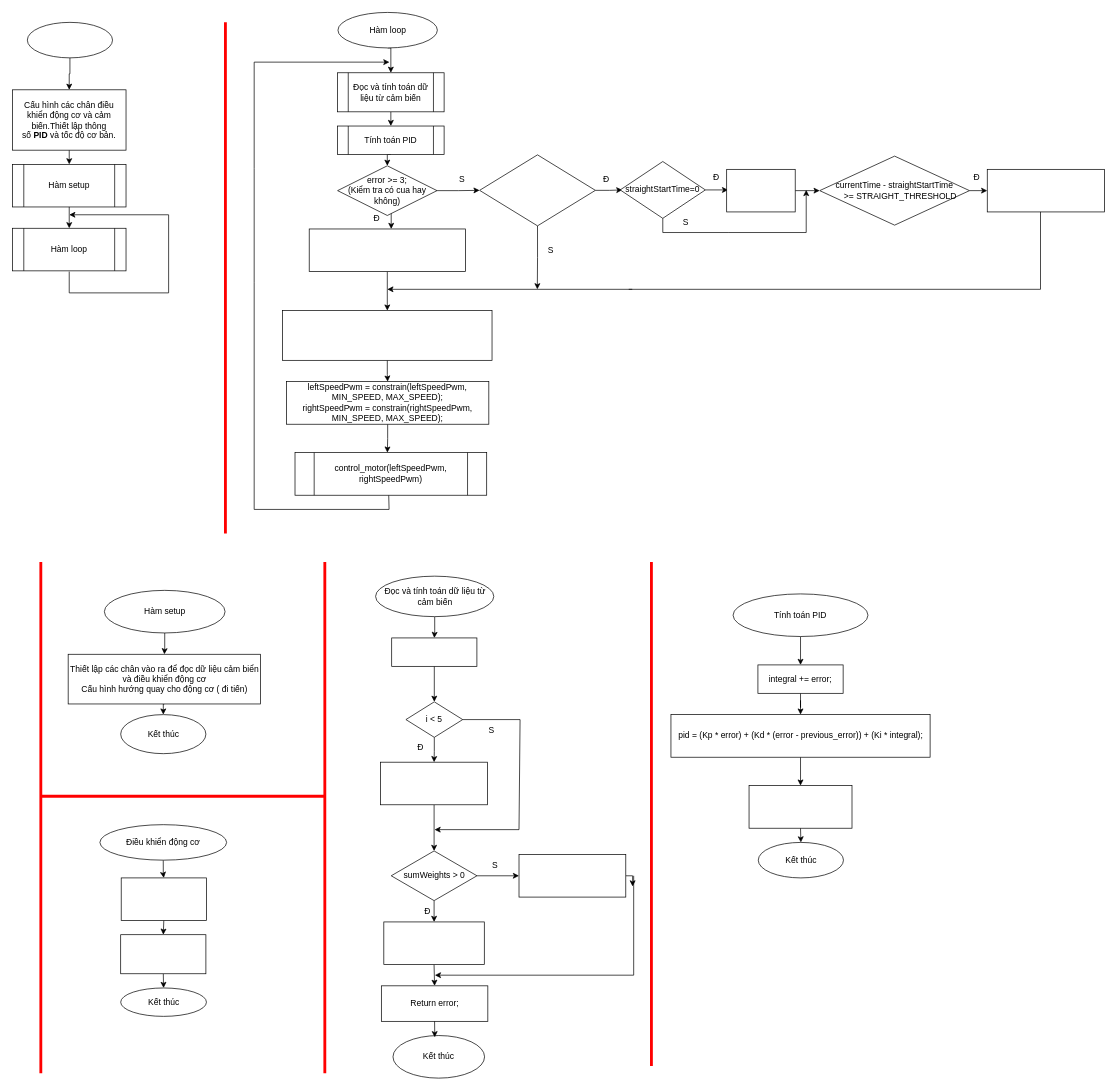
Some shapes in this 1117 by 1091 pixel diagram are drawn without their labels. The shapes that lost their labels are listed below. From the top down, each one's box as (x1, y1, x2, y2) in pixels, then its label:
(27, 22, 113, 58): START
(479, 154, 595, 226): Flag_Turning = True (Nếu đang cua trước đó)
(726, 169, 795, 212): straightStartTime = currentTime
(987, 169, 1104, 212): BASE_SPEED = STRAIGHT_SPEED Flag_Turning = False
(308, 228, 465, 272): Flag_Turning = True BASE_SPEED = TURN_SPEED straightStartTime = 0
(282, 310, 492, 360): leftSpeedPwm = BASE_SPEED + pid rightSpeedPwm = BASE_SPEED - pid
(391, 637, 477, 666): Đọc giá trị cảm biến, đảo giá trị cảm biến
(380, 761, 488, 805): Dịch phải sensorValues & 1 => để lấy giá trị tính toán sum, sumWeights
(748, 785, 852, 828): previous_error = error;
(518, 854, 626, 897): error = previous_error
(120, 877, 206, 921): Điều khiển động cơ bên trái
(120, 934, 206, 974): Điều khiển động cơ bên phải
(383, 921, 484, 965): error = sum / sumWeights
